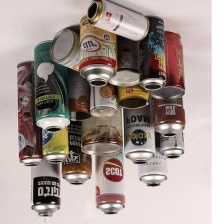aerosol_cans: (27, 110, 63, 221), (31, 38, 72, 134), (37, 65, 73, 166), (13, 57, 44, 168), (76, 10, 119, 88), (144, 28, 186, 103), (92, 128, 126, 217), (59, 99, 92, 188), (148, 68, 187, 138), (135, 13, 168, 92), (135, 123, 170, 189), (122, 97, 153, 168), (157, 92, 188, 163)
can: (78, 83, 125, 159), (83, 0, 153, 44), (53, 68, 96, 123), (113, 56, 153, 112), (106, 36, 143, 91), (87, 59, 120, 118)
